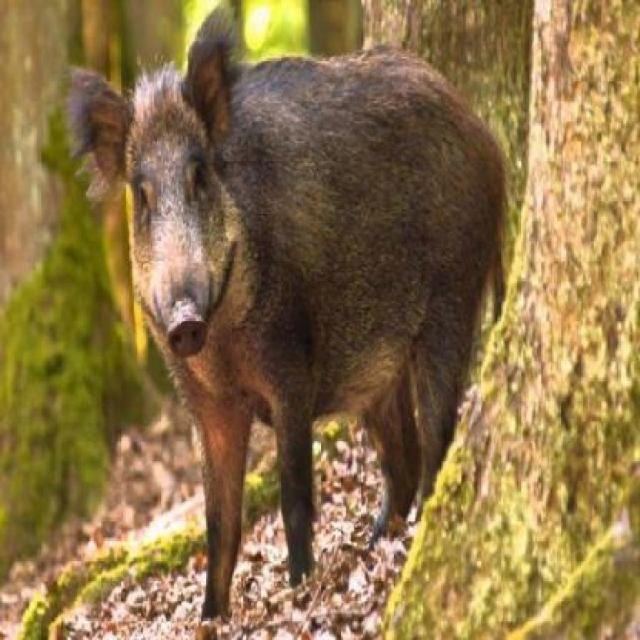wildboar: (62, 4, 513, 640)
